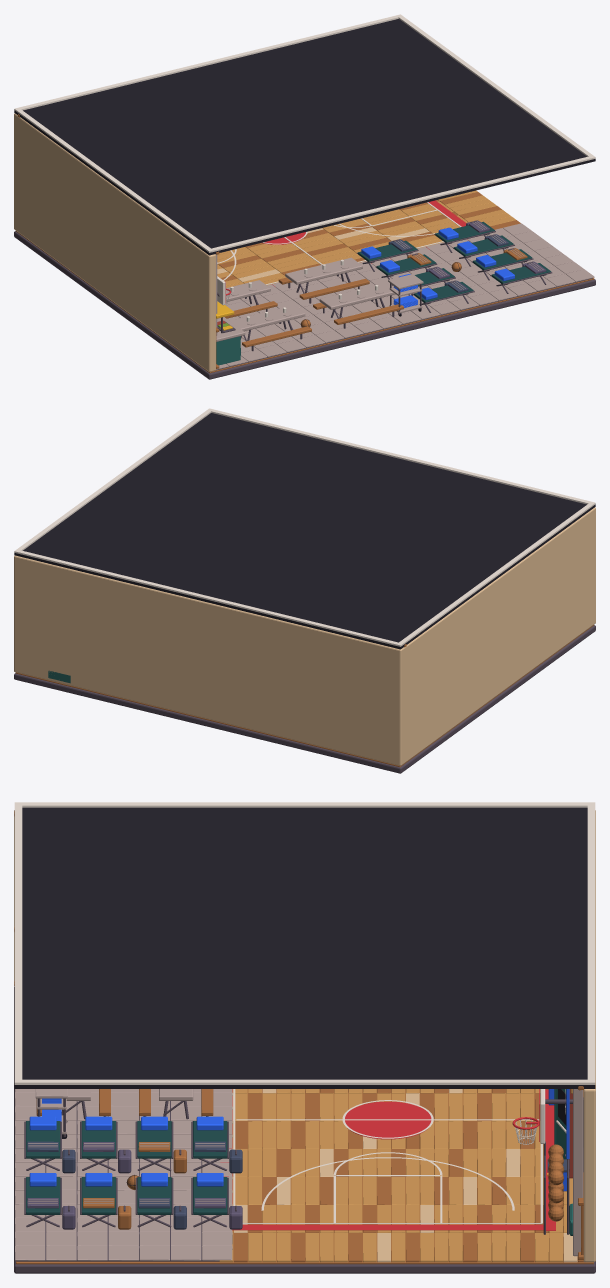
3 views of the same model, one above another, from view 1: azimuth 30°, elevation 25°; view 2: azimuth 150°, elevation 25°; view 3: azimuth 270°, elevation 25° (orthographic). The views are drawn at different scales.
Visible parts, largest first — view 1: roof_pal_uiDark, static_pal_canvasTan, static_pal_sidewalk, static_pal_brass, static_pal_asphalt, static_pal_woodWarm, roof_pal_picketWhite, static_pal_tealDark, static_pal_policeBlue, static_pal_picketWhite, static_pal_backpackTeal, static_pal_survivorRed (+2 smaller); view 2: roof_pal_uiDark, static_pal_canvasTan, roof_pal_picketWhite, static_pal_asphalt, static_pal_woodWarm; view 3: roof_pal_uiDark, static_pal_brass, static_pal_sidewalk, static_pal_woodWarm, roof_pal_picketWhite, static_pal_asphalt, static_pal_tealDark, static_pal_canvasTan, static_pal_survivorRed, static_pal_policeBlue, static_pal_picketWhite, static_pal_denim (+2 smaller).
Boxes of the visible parts, x1,y1,x2,y2 form: roof_pal_uiDark: (14, 19, 595, 255); static_pal_canvasTan: (14, 113, 442, 371); static_pal_sidewalk: (215, 221, 594, 369); static_pal_brass: (217, 190, 515, 287); static_pal_asphalt: (14, 221, 595, 379); static_pal_woodWarm: (16, 114, 594, 373); roof_pal_picketWhite: (14, 14, 595, 252); static_pal_tealDark: (240, 221, 551, 355); static_pal_policeBlue: (361, 227, 514, 307); static_pal_picketWhite: (217, 202, 461, 321); static_pal_backpackTeal: (216, 336, 240, 365); static_pal_survivorRed: (225, 200, 468, 303); roof_pal_uiDark: (14, 413, 595, 649); static_pal_canvasTan: (14, 507, 595, 765); roof_pal_picketWhite: (14, 408, 595, 646); static_pal_asphalt: (14, 625, 595, 773); static_pal_woodWarm: (15, 625, 593, 766); roof_pal_uiDark: (14, 807, 595, 1088); static_pal_brass: (219, 1089, 572, 1262); static_pal_sidewalk: (15, 1089, 583, 1260); static_pal_woodWarm: (14, 811, 593, 1264); roof_pal_picketWhite: (14, 802, 595, 1084); static_pal_asphalt: (14, 986, 595, 1273); static_pal_tealDark: (26, 1121, 227, 1214); static_pal_canvasTan: (14, 810, 595, 1262); static_pal_survivorRed: (220, 1089, 555, 1230); static_pal_policeBlue: (29, 1089, 569, 1191); static_pal_picketWhite: (233, 1089, 565, 1223); static_pal_denim: (27, 1141, 569, 1229).
Size of the model in its own units: 16 by 5.07 by 14.
